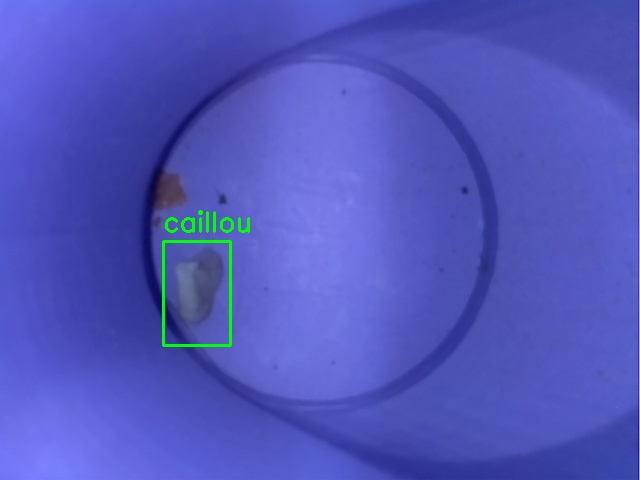caillou: (163, 241, 230, 345)
